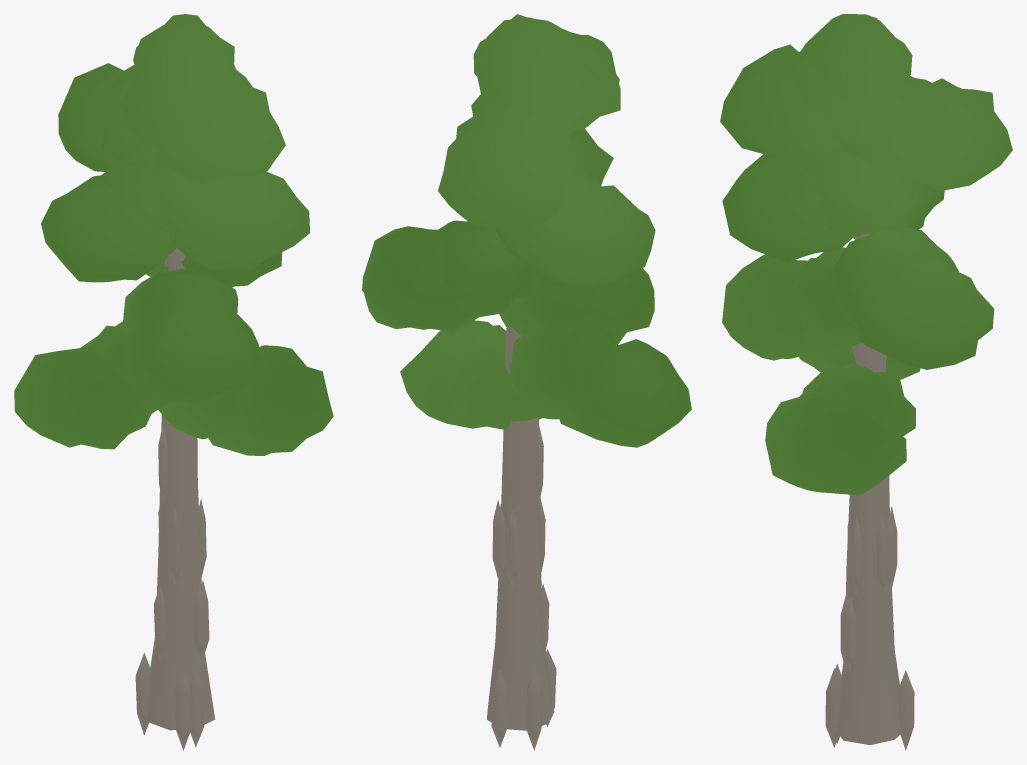
Rendered from Blender_Shagbark_1.glb.
3 views of the same model, side by side, from view 1: azimuth 30°, elevation 25°; view 2: azimuth 150°, elevation 25°; view 3: azimuth 270°, elevation 25° (orthographic). The views are drawn at different scales.
Visible parts, largest first — view 1: Blender_Shagbark_1; view 2: Blender_Shagbark_1; view 3: Blender_Shagbark_1.
Part boxes in pixels (x1,y1,x2,y2): Blender_Shagbark_1: (14,14,333,750); Blender_Shagbark_1: (362,14,691,750); Blender_Shagbark_1: (720,14,1012,750).
Size of the model in its own units: 10.67 by 25.79 by 9.34.
